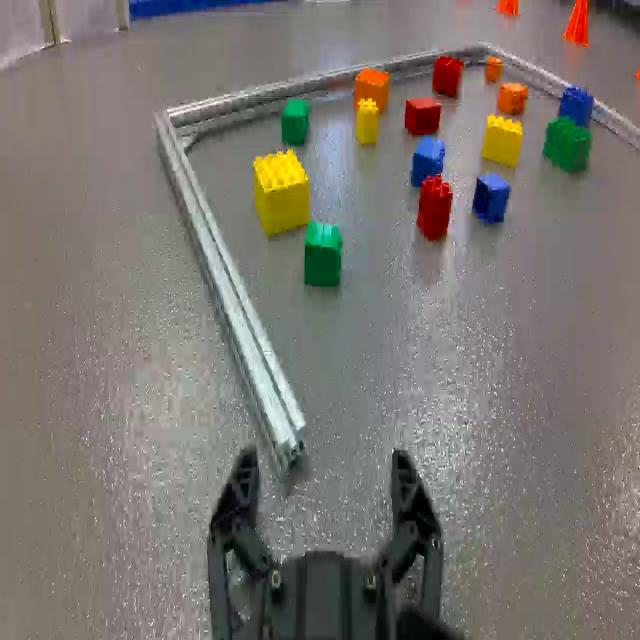block: (248, 149, 310, 232), (482, 111, 524, 173), (356, 102, 378, 153)
blue: (478, 175, 508, 226), (410, 140, 446, 177), (560, 86, 592, 125)
cone: (568, 0, 590, 52), (498, 0, 518, 23)
green: (300, 220, 350, 289), (547, 118, 585, 166), (284, 101, 310, 146)
metal barrier: (148, 37, 640, 470)
orange: (355, 68, 391, 105), (498, 84, 530, 115), (484, 58, 502, 86)
red goal: (418, 181, 452, 248), (403, 97, 445, 131), (434, 54, 462, 100)
river: (127, 4, 306, 36)
storage cube: (0, 0, 54, 66), (47, 0, 131, 36)
